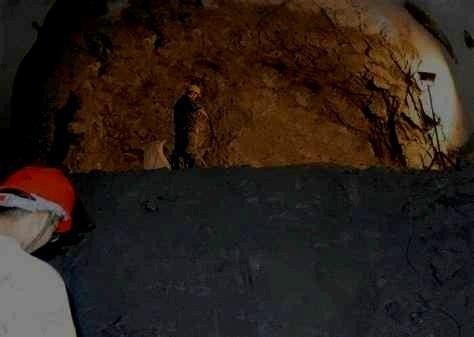helmet: (1, 165, 76, 253), (185, 85, 201, 101)
